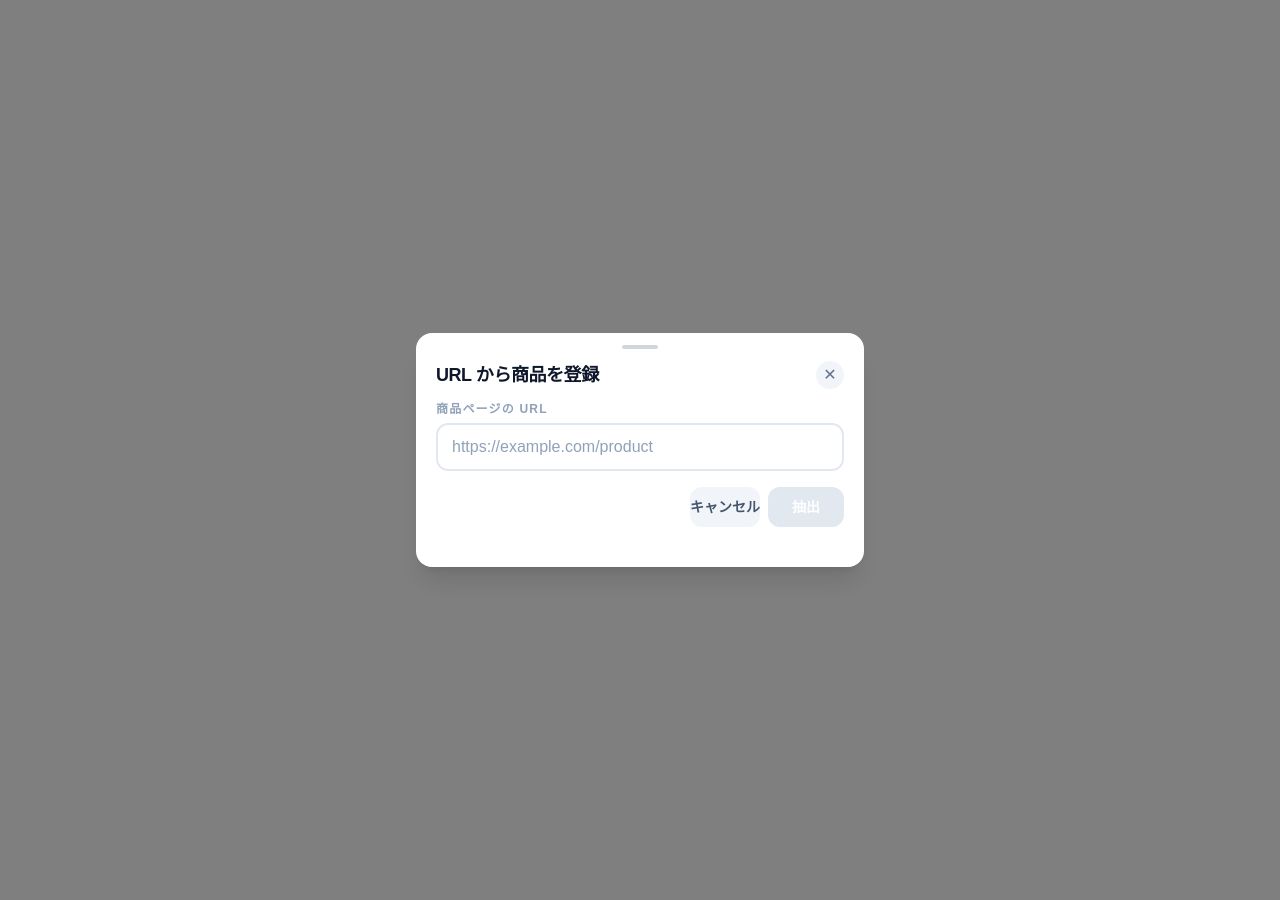
Test: UrlRegistrationModal › fetchFailed エラーで「ページを取得できませんでした」が表示される
Type "https://example.com" into the field labelled "商品ページの URL".
click(640, 447); type("https://example.com")  # box [436,423,844,471]
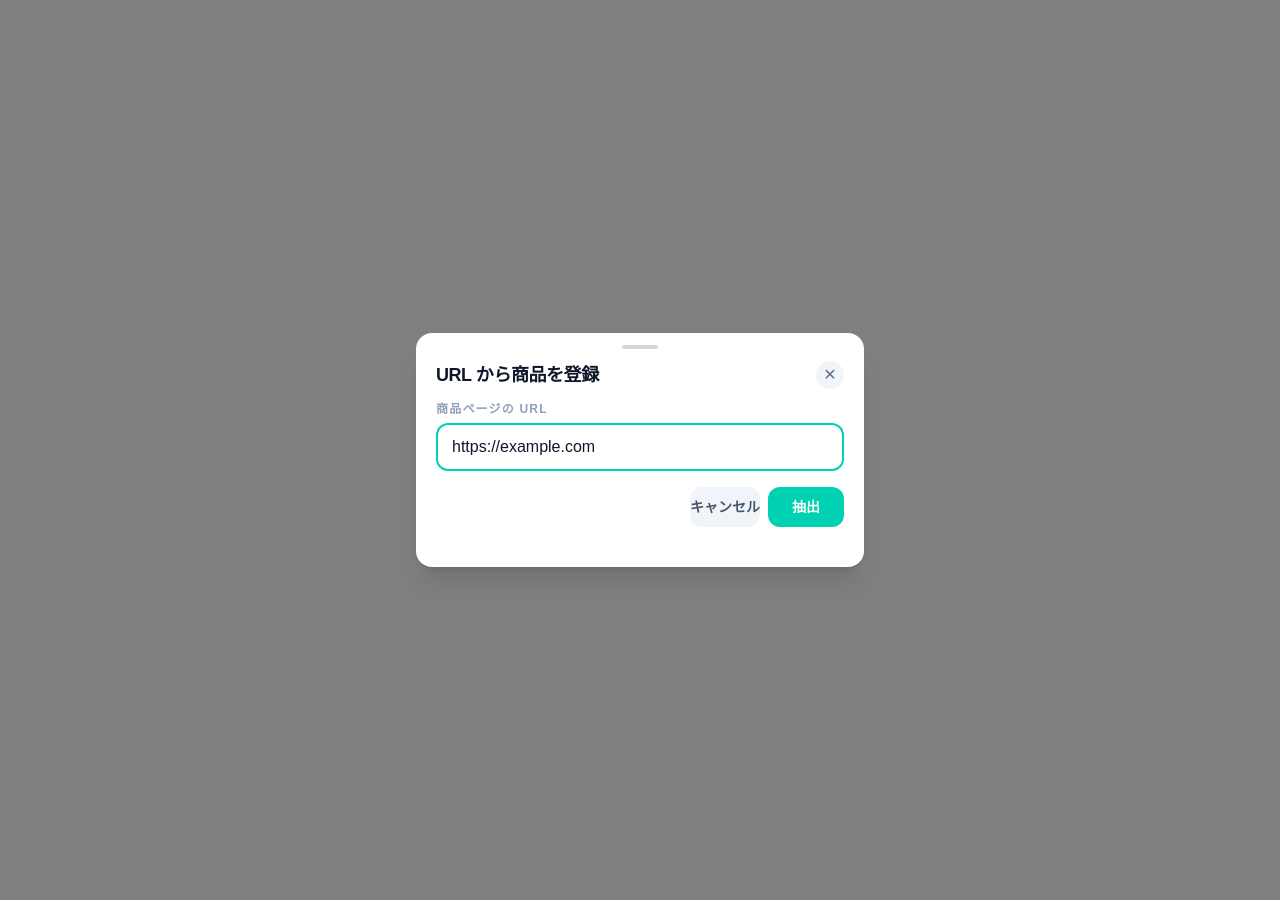
Click the button "抽出".
click(806, 507)  # box [768,487,844,527]
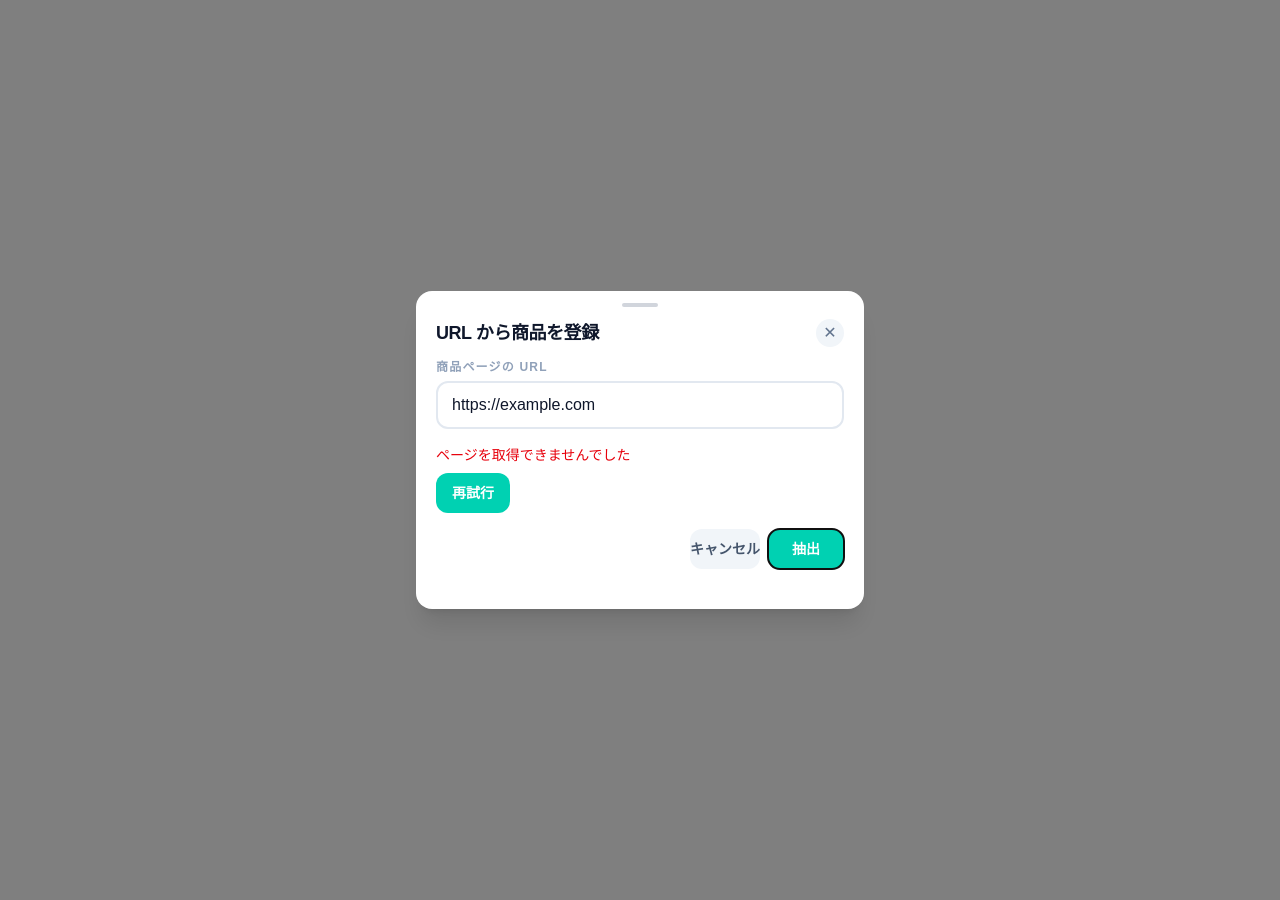
Expected: the text "ページを取得できませんでした" is shown, [436,447,631,463]
Expected: the button "再試行" is shown, [436,473,510,513]
